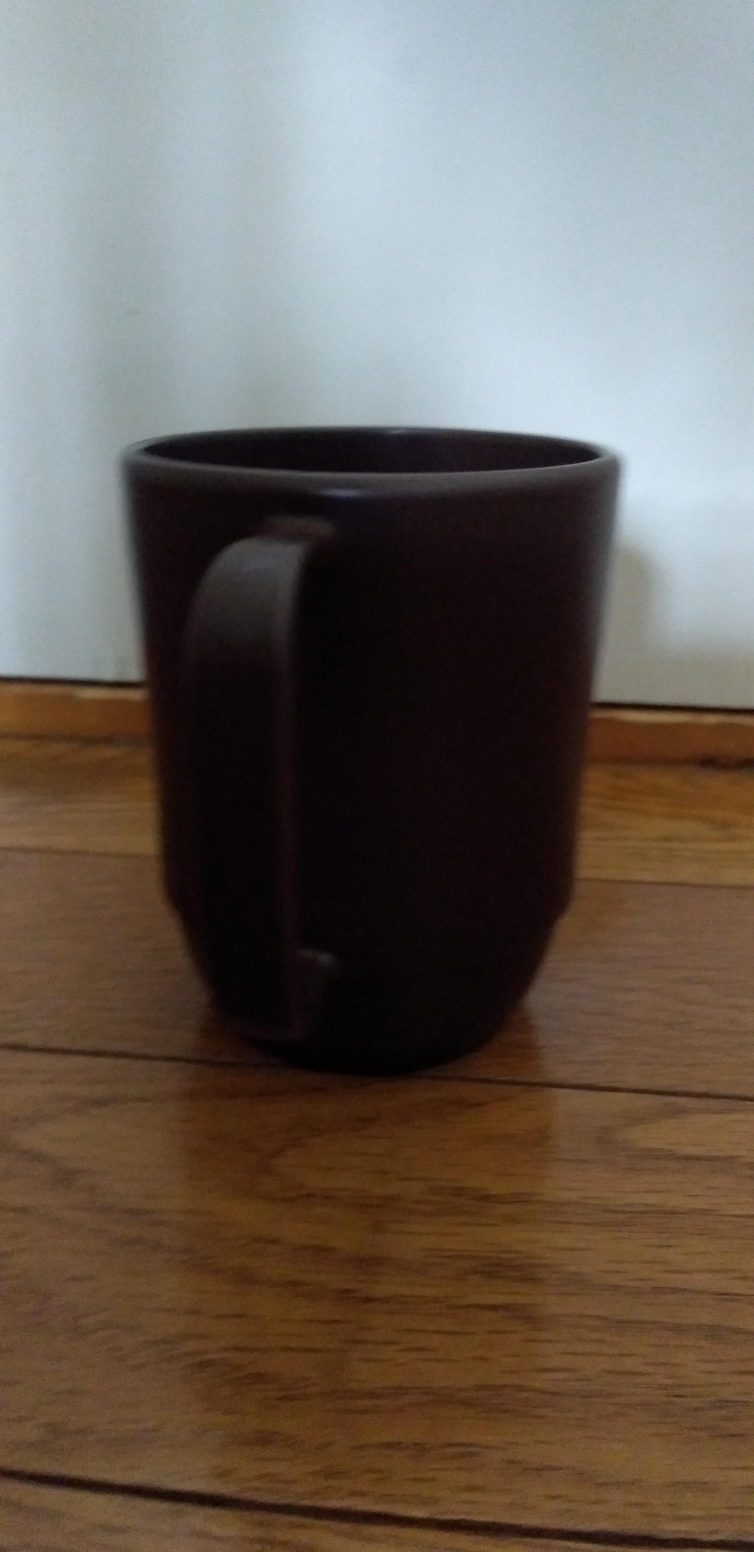mug-real100-3d100: (122, 426, 619, 1074)
